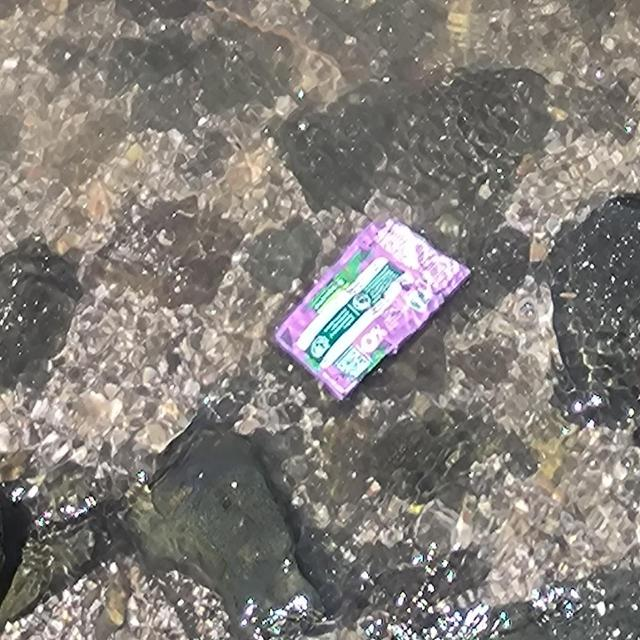litter: (275, 215, 475, 401)
